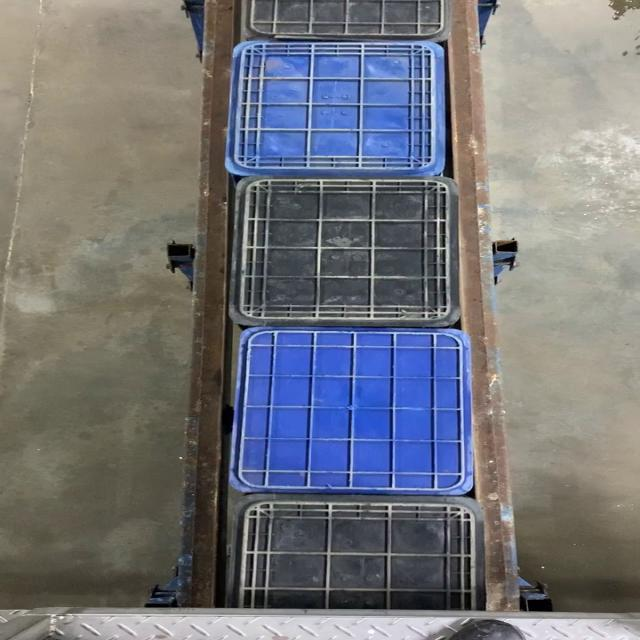Box: (228, 331, 478, 497), (224, 176, 461, 330), (226, 38, 444, 176)
